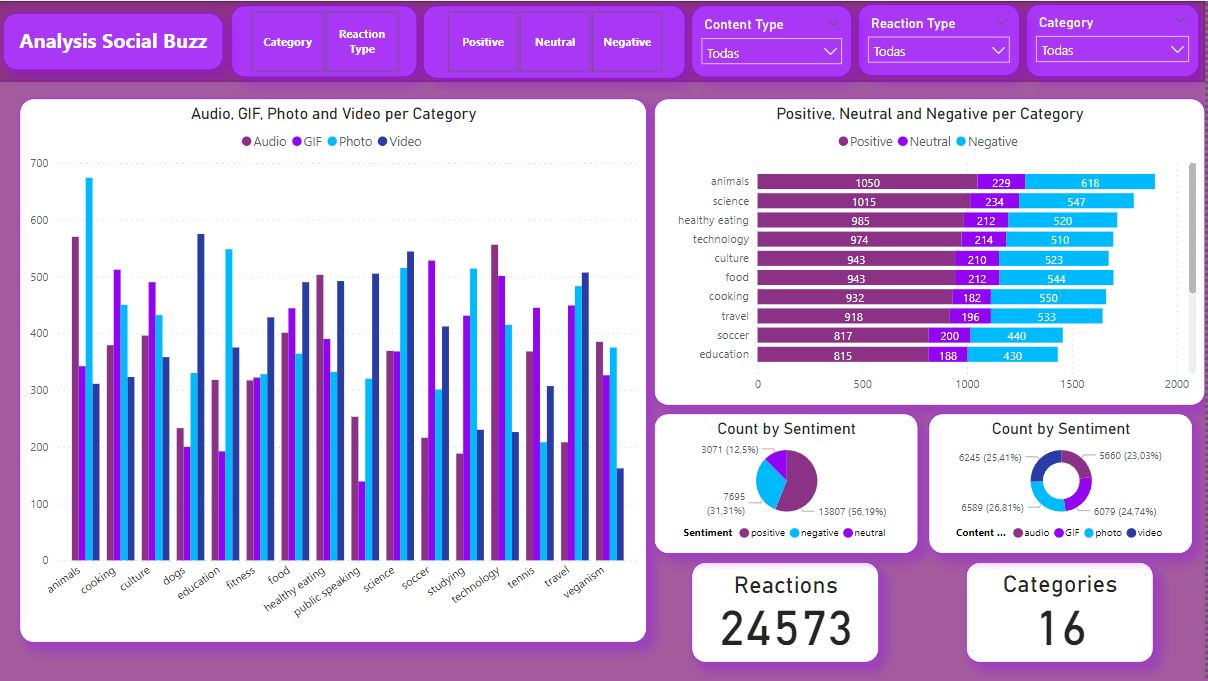

This screenshot's page, from the dashboard's own definition file:
{"tool":"powerbi","page":{"name":"Category and Content Type","canvas":[1280,720],"ordinal":0},"visuals":[{"type":"shape","box":[1.4,0,1278.9,85.4],"z":0},{"type":"slicer","fields":{"Values":["Cleaned_Table.Category"]},"box":[1090.3,2.4,183.3,77],"z":1000},{"type":"slicer","fields":{"Values":["Cleaned_Table.Reaction Type"]},"box":[912.3,3.2,171.7,76.3],"z":2000},{"type":"slicer","fields":{"Values":["Category and Reaction Type.Category and Reaction Type"]},"box":[247.9,4.8,197.1,76.3],"z":3000},{"type":"clusteredColumnChart","title":"Audio, GIF, Photo and Video per Category","fields":{"Category":["Cleaned_Table.Category","Cleaned_Table.Reaction Type"],"Y":["Category and Reaction Type.Conteo Audio","Category and Reaction Type.Conteo GIF","Category and Reaction Type.Conteo Photo","Category and Reaction Type.Conteo Video"]},"box":[23.8,103.3,664.4,577],"z":4000},{"type":"barChart","title":"Positive, Neutral and Negative per Category","fields":{"Y":["Cleaned_Table.Positive","Cleaned_Table.Neutral","Cleaned_Table.Negative"],"Category":["Cleaned_Table.Category","Cleaned_Table.Reaction Type"]},"box":[695.9,103.7,583.7,325.6],"z":5000},{"type":"slicer","fields":{"Values":["Sentiment.Sentiment"]},"box":[451.4,4.8,278.1,77],"z":6000},{"type":"slicer","fields":{"Values":["Cleaned_Table.Content Type"]},"box":[735.9,4.8,170.1,76.3],"z":7000},{"type":"card","title":"Reactions","fields":{"Values":["CountNonNull(Cleaned_Table.Category)"]},"box":[735.9,594.4,198.7,106.5],"z":8000},{"type":"card","title":"Categories","fields":{"Values":["Count(Cleaned_Table.Category)"]},"box":[1026.8,594.4,198.7,106.5],"z":9000},{"type":"pieChart","title":"Count by Sentiment","fields":{"Y":["Cleaned_Table.Conteo Reacciones por Sentimiento"],"Category":["Cleaned_Table.Sentiment"]},"box":[695.9,437.8,279.8,148.3],"z":10000},{"type":"donutChart","title":"Count by Sentiment","fields":{"Y":["Category and Reaction Type.Conteo Audio","Category and Reaction Type.Conteo GIF","Category and Reaction Type.Conteo Photo","Category and Reaction Type.Conteo Video"],"Category":["Cleaned_Table.Content Type"]},"box":[987.7,437.8,279.8,148.3],"z":11000},{"type":"textbox","box":[6.4,12.7,233.6,60.4],"z":12000}]}

Visuals, with their boxes in screenshot pixels (x1, y1, x2, y2), scaled from the page's 1280x720 canvas onto the 1208x681 screenshot:
shape: [x1=1, y1=0, x2=1207, y2=81]
slicer - Cleaned_Table.Category: [x1=1029, y1=2, x2=1202, y2=75]
slicer - Cleaned_Table.Reaction Type: [x1=861, y1=3, x2=1023, y2=75]
slicer - Category and Reaction Type.Category and Reaction Type: [x1=234, y1=5, x2=420, y2=77]
"Audio, GIF, Photo and Video per Category" clusteredColumnChart: [x1=22, y1=98, x2=649, y2=643]
"Positive, Neutral and Negative per Category" barChart: [x1=657, y1=98, x2=1207, y2=406]
slicer - Sentiment.Sentiment: [x1=426, y1=5, x2=688, y2=77]
slicer - Cleaned_Table.Content Type: [x1=695, y1=5, x2=855, y2=77]
"Reactions" card: [x1=695, y1=562, x2=882, y2=663]
"Categories" card: [x1=969, y1=562, x2=1157, y2=663]
"Count by Sentiment" pieChart: [x1=657, y1=414, x2=921, y2=554]
"Count by Sentiment" donutChart: [x1=932, y1=414, x2=1196, y2=554]
textbox: [x1=6, y1=12, x2=226, y2=69]
